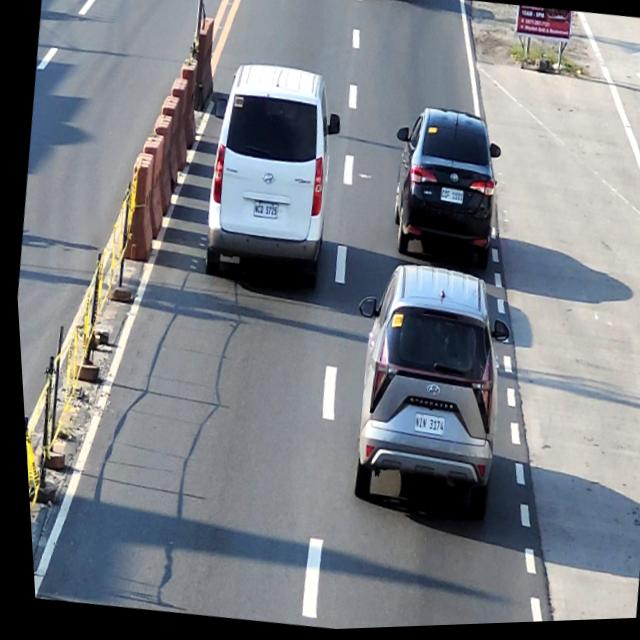Car: (325, 259, 521, 531), (189, 57, 353, 295), (378, 103, 510, 269)
License-Plate: (407, 415, 441, 440), (250, 203, 277, 221), (437, 189, 462, 208)
